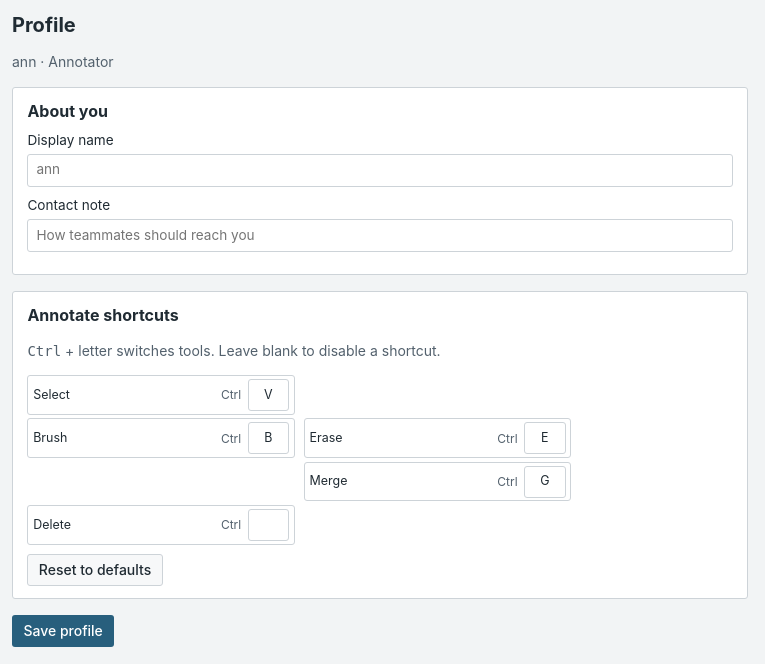
it: ProfilePage annotate shortcuts › blocks saving while two tools share a letter
The image size is (765, 664).
Replace the text in the field named "Brush shortcut letter" with "g" at [268, 438], box x1=248 y1=422 x2=289 y2=454
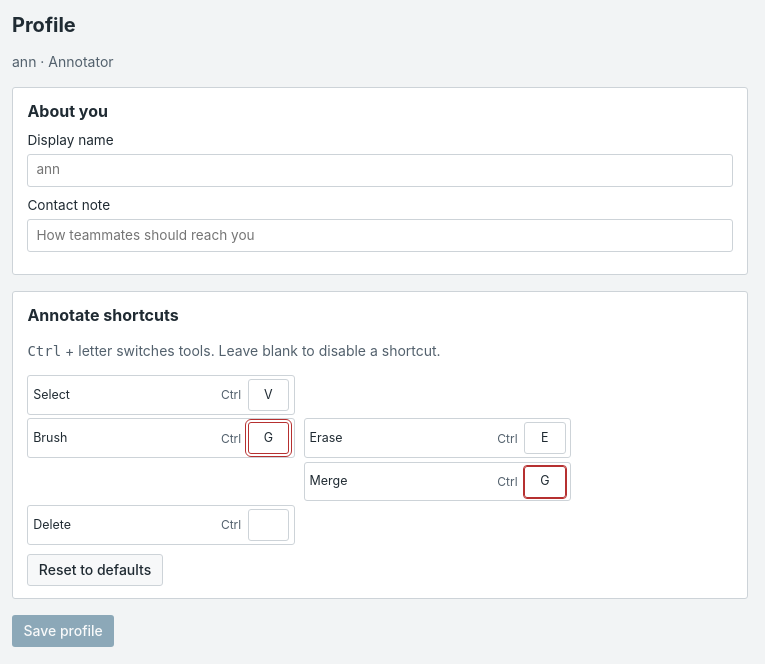
Expected: the button "Save profile" is disabled, x1=12 y1=615 x2=114 y2=647
